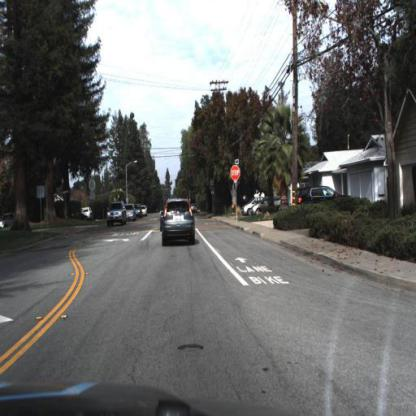car: (293, 180, 359, 215), (160, 194, 197, 249), (295, 183, 353, 208), (252, 194, 285, 219), (105, 199, 128, 231), (240, 191, 254, 226), (126, 202, 138, 223)
